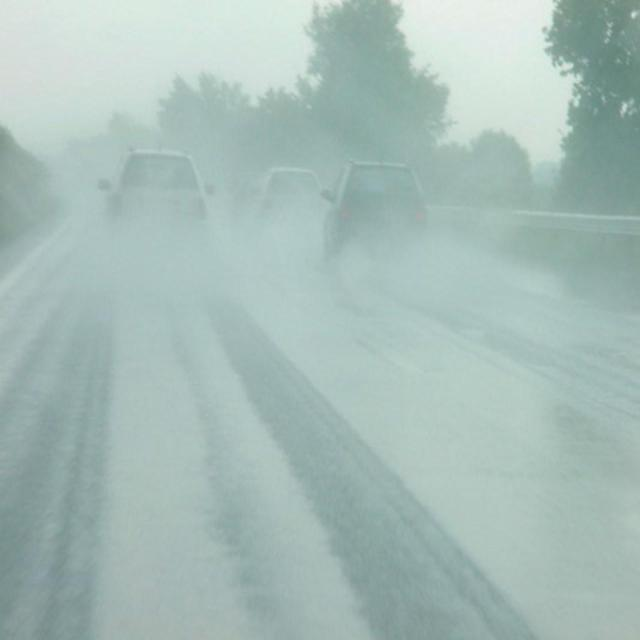Car: (316, 159, 436, 280), (91, 144, 218, 250), (242, 166, 322, 248)
